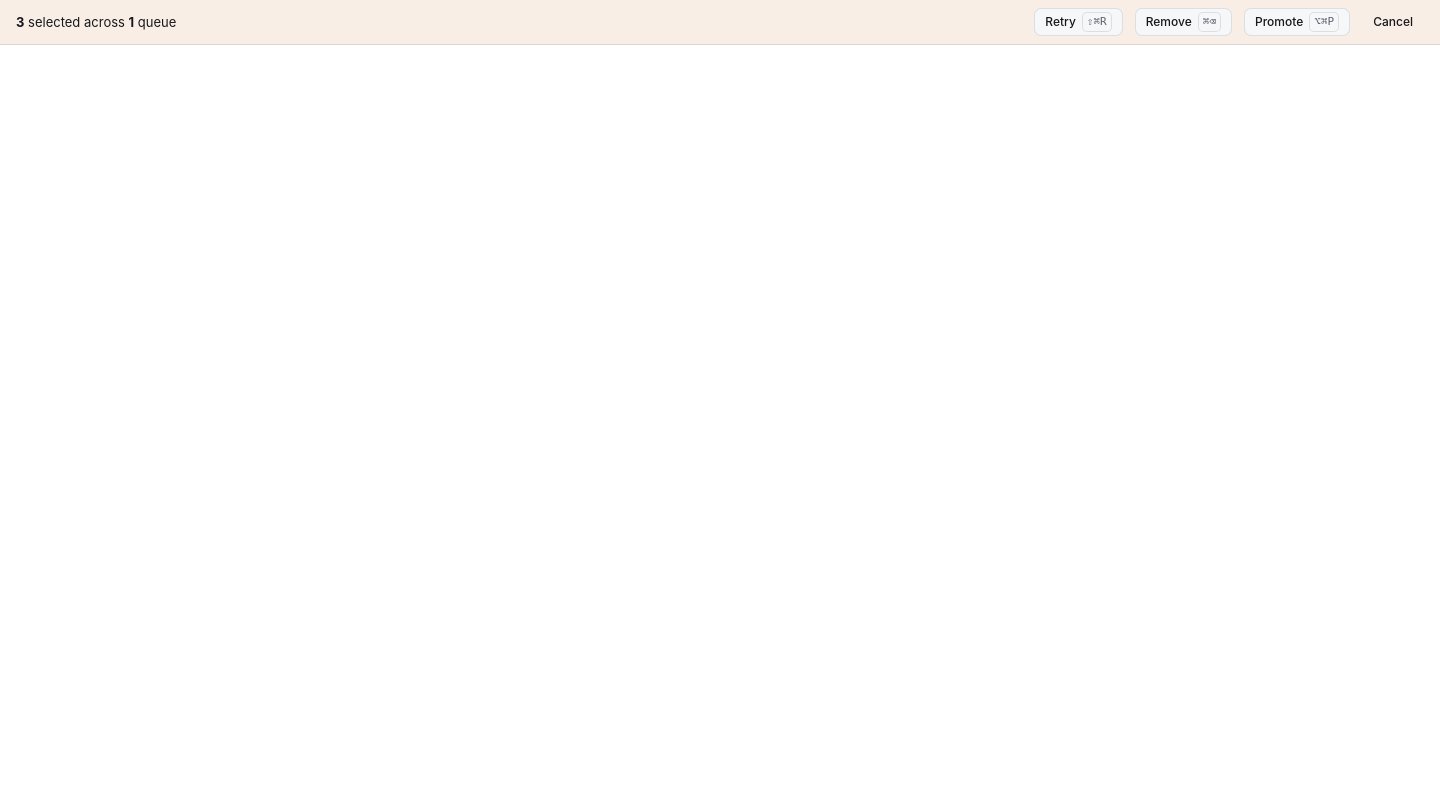
BulkActionBar: preview state › clicking Retry transitions to preview with the right banner text
Click the button with test id "bulk-action-retry": (1078, 22) x1=1034 y1=8 x2=1123 y2=36
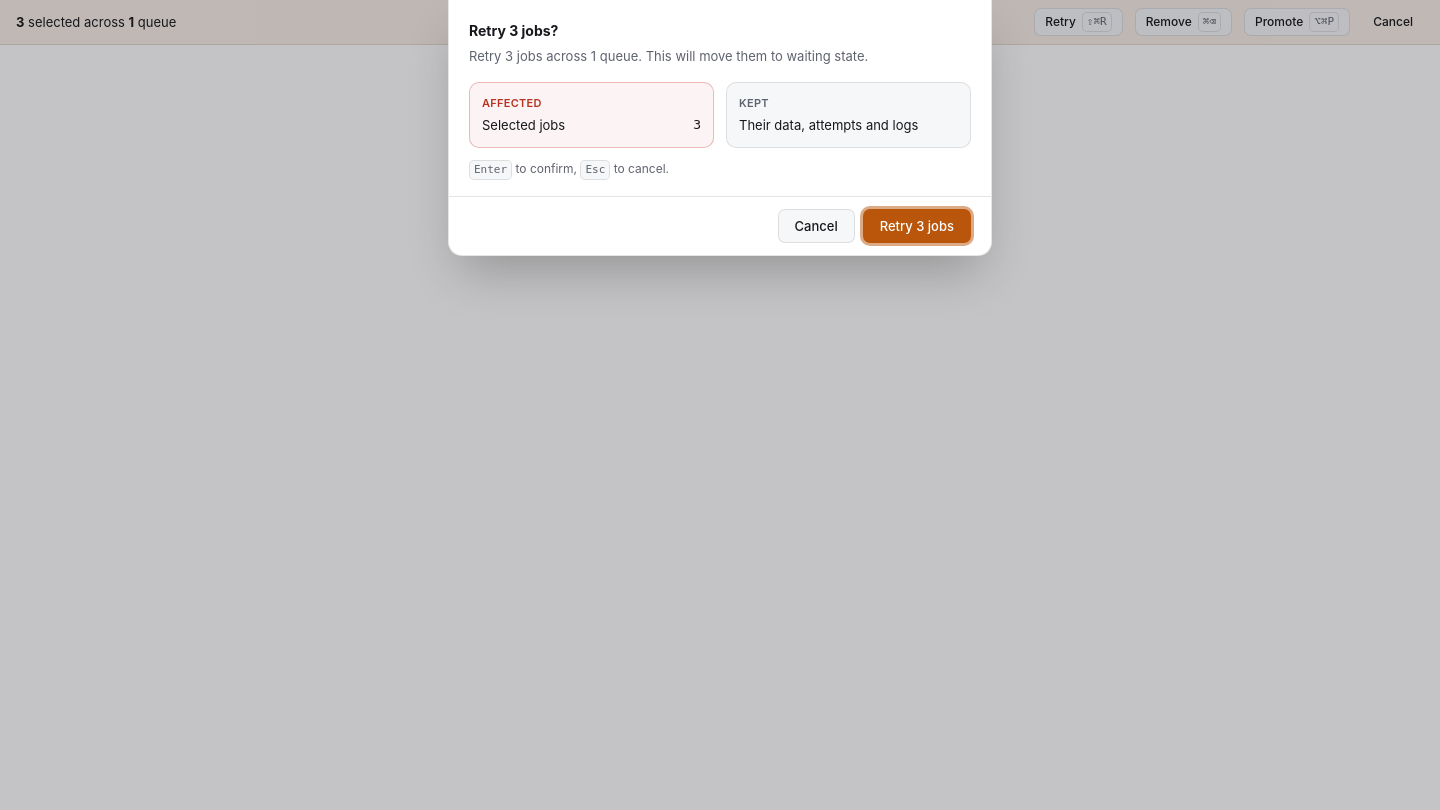
Expected: the text with test id "bulk-action-bar-preview" reads "Retry 3 jobs across 1 queue. This will move them to waiting state.", x1=469 y1=48 x2=868 y2=64
